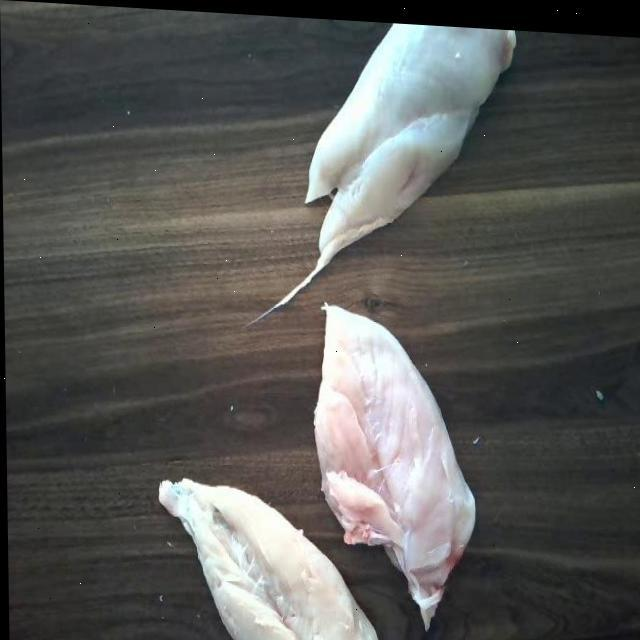breast: (309, 300, 477, 609), (306, 14, 516, 254), (157, 463, 384, 640)
